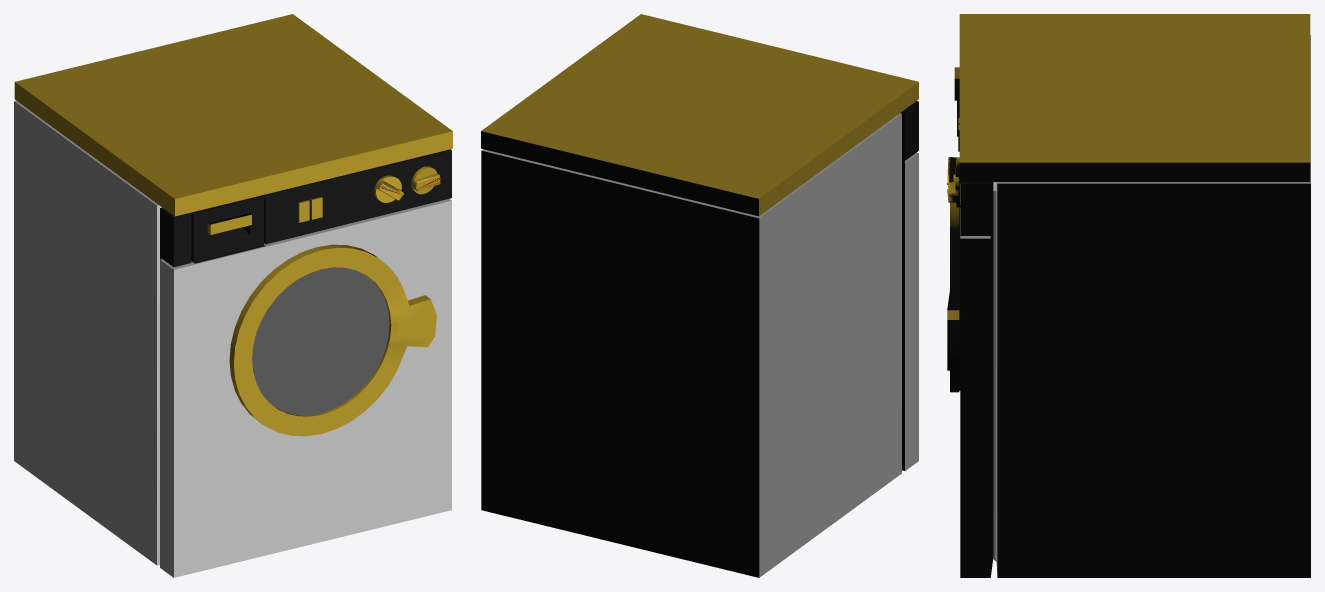
The model's file is testbakeWasmachine.fbx.
3 views of the same model, side by side, from view 1: azimuth 30°, elevation 25°; view 2: azimuth 150°, elevation 25°; view 3: azimuth 270°, elevation 25° (orthographic). The views are drawn at different scales.
Visible parts, largest first — view 1: WashingMachine; view 2: WashingMachine; view 3: WashingMachine.
Part boxes in pixels (x1=…): WashingMachine: x1=14, y1=14, x2=452, y2=577; WashingMachine: x1=481, y1=14, x2=918, y2=577; WashingMachine: x1=947, y1=14, x2=1310, y2=577.
Size of the model in its own units: 64.61 by 84.03 by 66.66.
1 material, 1 textured.
